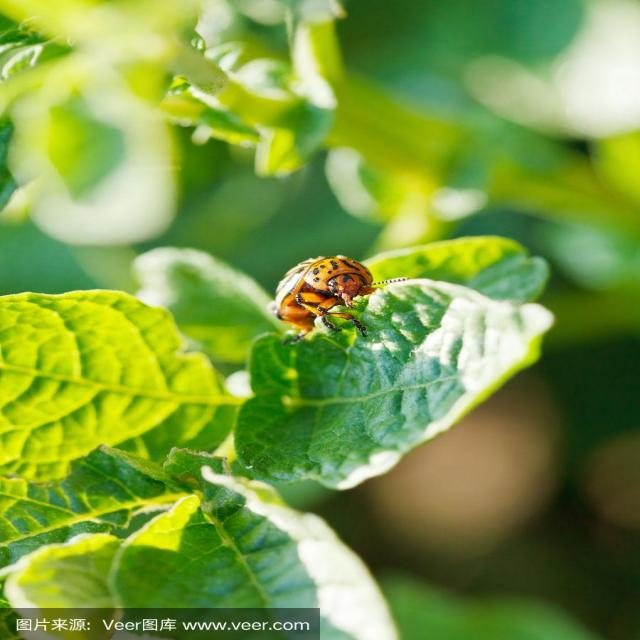ShuCaiHuaBanChong-Grown-: (273, 235, 414, 346)
